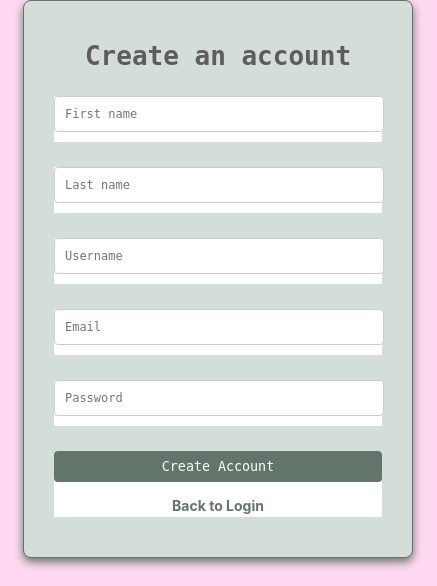
Scenario: CreateAccount Component › shows email validation error when invalid email is entered
The image size is (437, 586).
Type "invalid-email" into the field with placeholder "Email" at coordinates (219, 327), box [54,309,384,345]
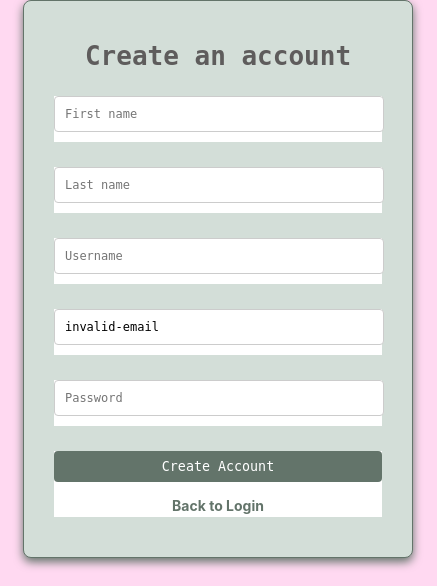
Click the button "Create Account" at coordinates (218, 466), box [54,451,382,482]
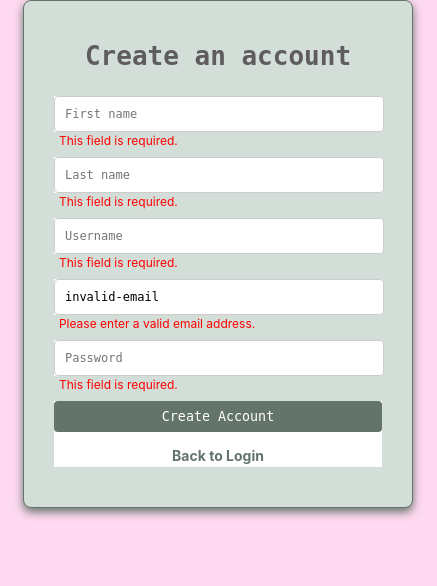
Now the text "Please enter a valid email address." is shown, box [59,316,255,331]
